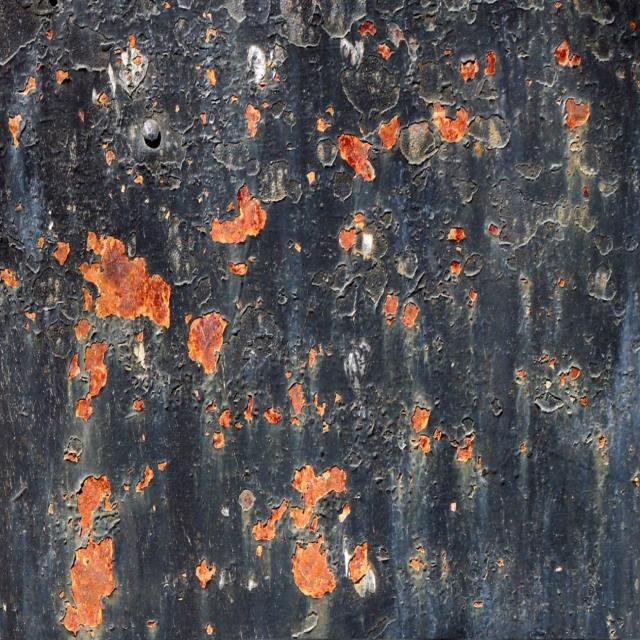Uniform Corrosion: (79, 232, 170, 327), (63, 537, 115, 631), (290, 465, 346, 528), (210, 185, 266, 242), (292, 537, 336, 598), (187, 311, 227, 373), (213, 396, 256, 449), (77, 476, 110, 535), (377, 99, 410, 158), (337, 135, 374, 180), (338, 213, 374, 259), (432, 101, 468, 142), (556, 357, 588, 401), (252, 500, 287, 540), (84, 341, 107, 399), (513, 353, 536, 391), (349, 542, 370, 583), (565, 98, 589, 130), (196, 68, 222, 97), (196, 557, 217, 589), (136, 465, 155, 499), (201, 24, 228, 43), (288, 382, 304, 414), (447, 226, 469, 249), (9, 113, 24, 146), (411, 406, 430, 432), (245, 104, 260, 136), (444, 259, 464, 283), (460, 58, 478, 81), (401, 302, 418, 326), (384, 294, 398, 322), (53, 241, 69, 265), (18, 75, 36, 96), (261, 407, 282, 425), (554, 40, 569, 65), (457, 438, 472, 462), (74, 318, 90, 340), (76, 399, 92, 421), (0, 268, 17, 287), (68, 354, 80, 378), (358, 20, 376, 36), (485, 51, 495, 75), (377, 43, 391, 59), (83, 288, 92, 311), (56, 69, 68, 84), (216, 569, 225, 589), (157, 460, 168, 473), (206, 401, 216, 412), (203, 12, 211, 20), (151, 501, 156, 511)
